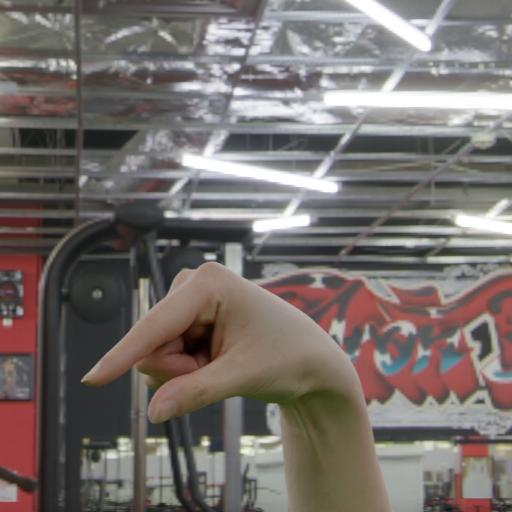Q: (79, 246, 378, 443)
